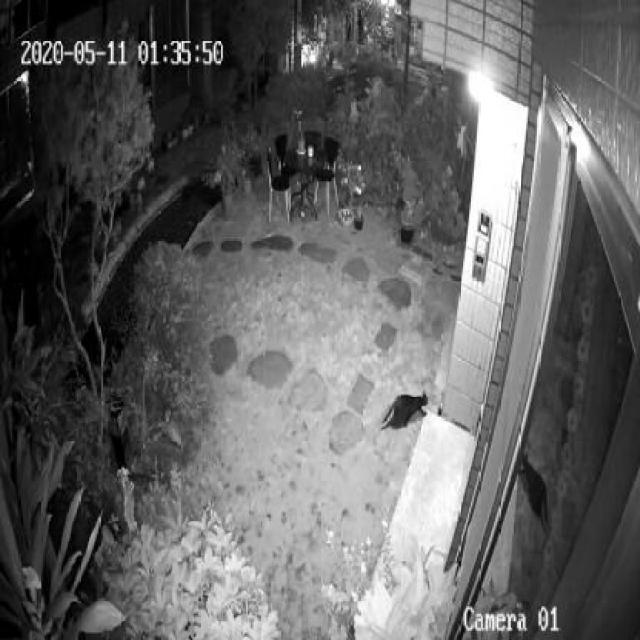animals: (379, 389, 433, 431)
